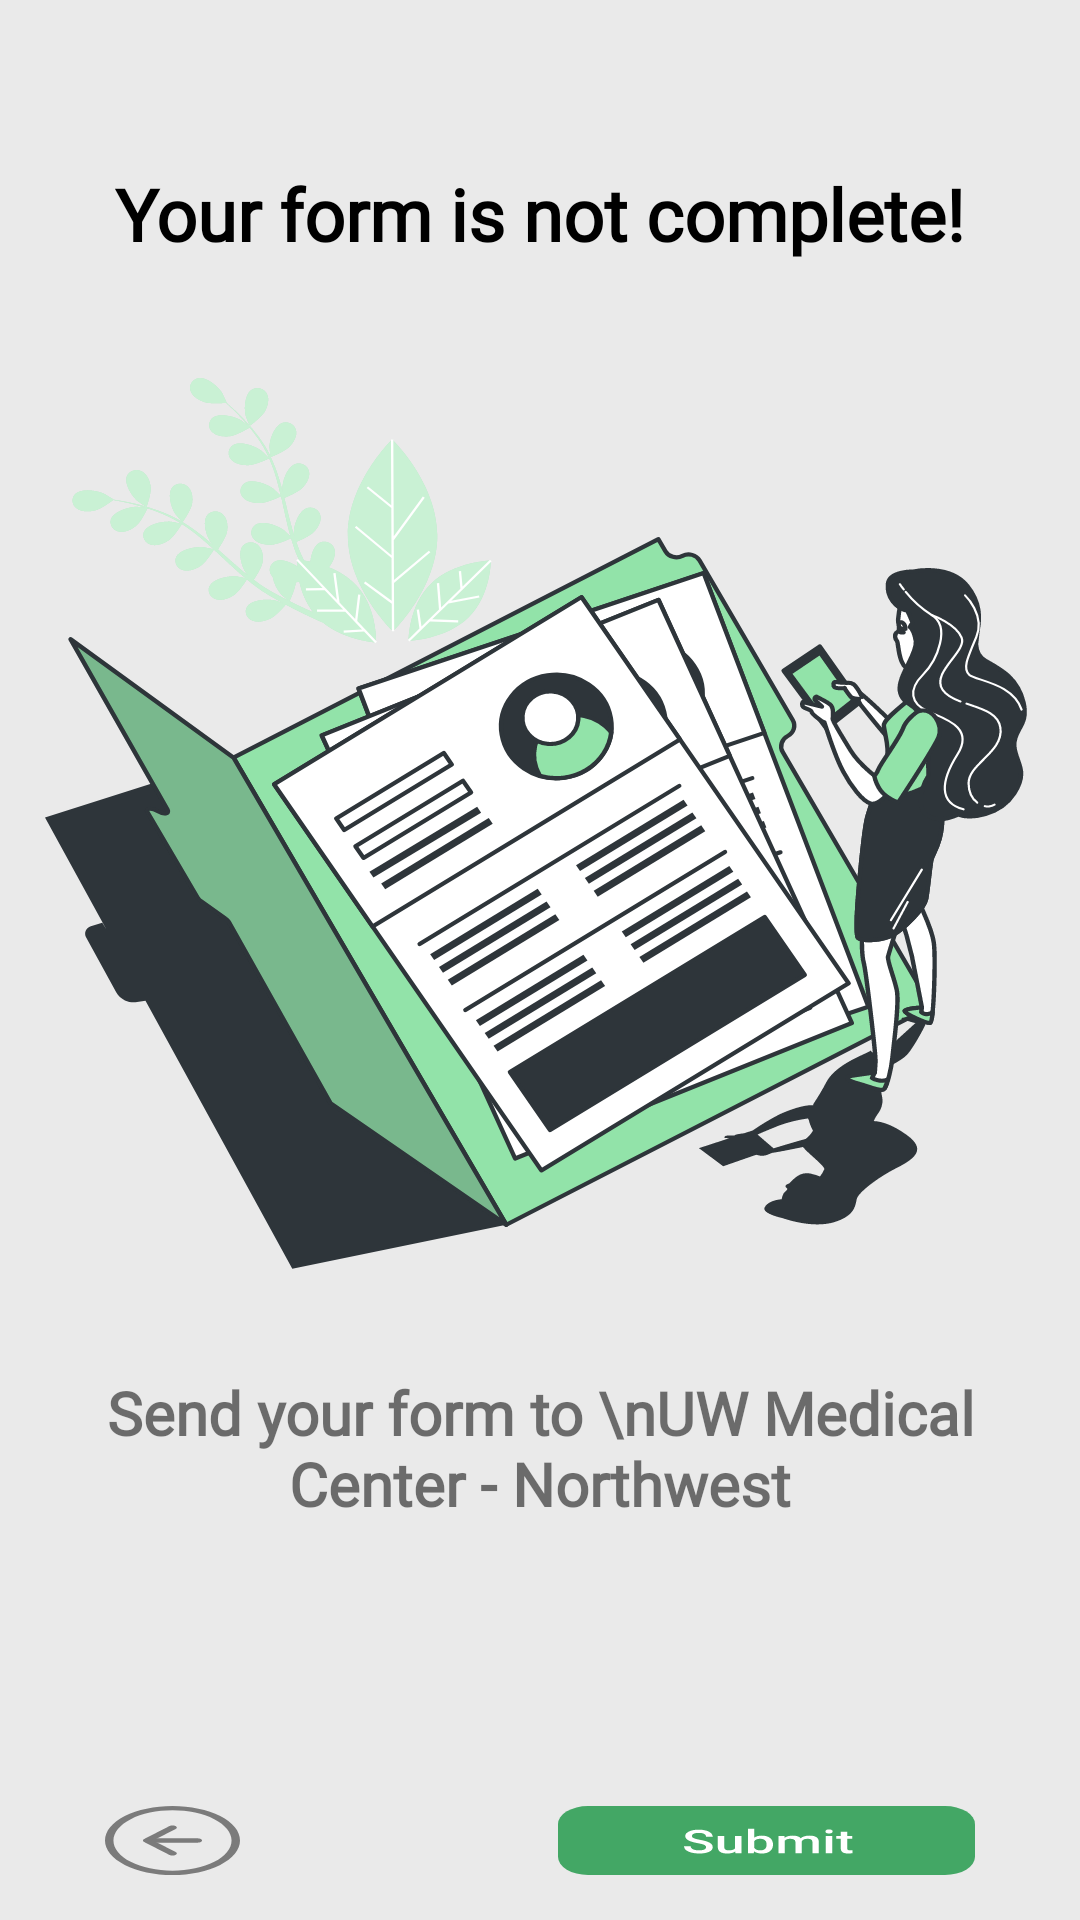

Icons on this 1080*1920 Android screen, each with the point to tap as (x=x, y=y):
bi arrow left circle: (x=172, y=1840)
